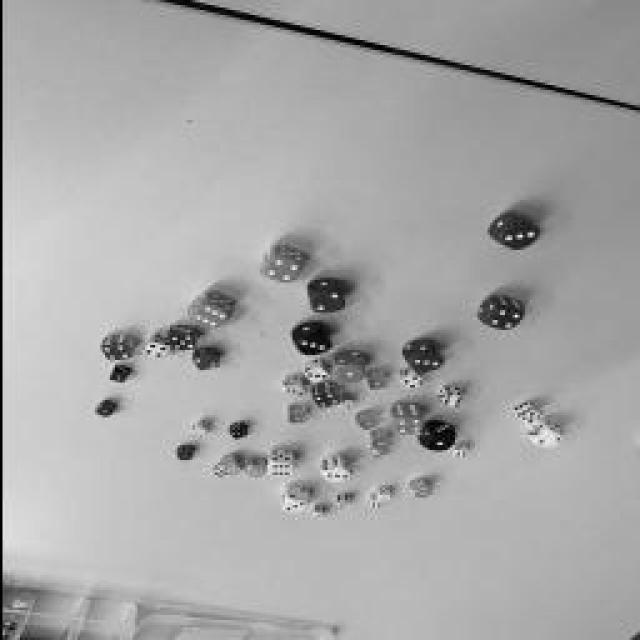dice_1: (332, 365, 362, 380), (425, 435, 450, 450), (110, 371, 125, 381), (175, 452, 190, 460), (95, 407, 110, 415), (378, 495, 388, 500)
dice_2: (312, 290, 342, 310), (534, 432, 561, 448), (192, 356, 216, 369), (245, 468, 260, 478), (221, 466, 239, 474), (338, 401, 352, 409)
dice_3: (500, 222, 538, 248), (409, 354, 441, 371), (298, 335, 328, 353), (305, 369, 330, 381), (324, 469, 348, 481), (282, 500, 308, 510), (284, 386, 304, 396), (230, 430, 245, 438), (372, 440, 386, 448), (336, 500, 349, 508), (311, 512, 324, 518)
dice_4: (262, 258, 298, 282), (488, 309, 522, 329), (394, 418, 421, 434), (101, 345, 129, 360), (312, 392, 338, 408), (142, 342, 168, 358), (400, 375, 425, 390), (358, 419, 378, 429), (192, 427, 206, 435)
dice_5: (168, 335, 192, 350), (519, 411, 541, 424)
dice_6: (192, 305, 228, 327), (269, 464, 291, 476), (442, 395, 462, 405), (365, 379, 385, 389), (411, 490, 429, 498), (288, 412, 302, 422), (370, 450, 385, 458), (212, 469, 226, 476), (369, 502, 381, 508), (453, 452, 465, 458)
